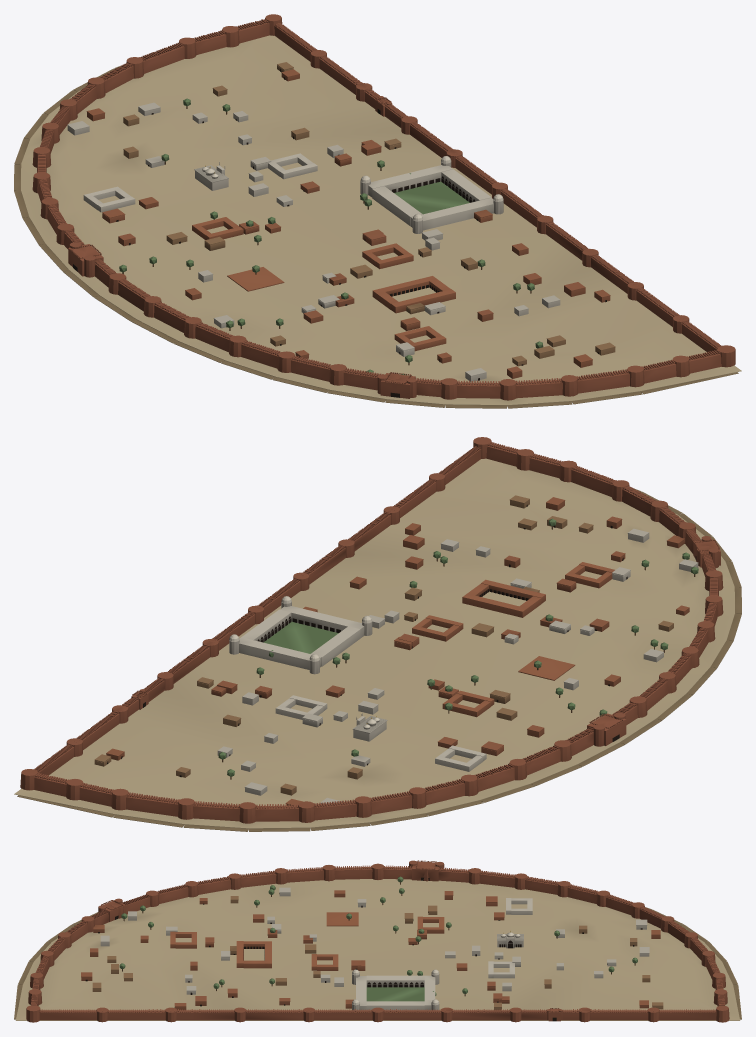
File: badalgarh.glb
The picture shows the model from 3 angles, top to bottom: view 1: azimuth 30°, elevation 25°; view 2: azimuth 150°, elevation 25°; view 3: azimuth 270°, elevation 25°; orthographic projection. The views are drawn at different scales.
Visible parts, largest first — view 1: p0_walls, p2_palace, p1_gates; view 2: p0_walls, p2_palace, p1_gates; view 3: p0_walls, p2_palace, p1_gates.
Part boxes in pixels (x1,y1,x2,y2): p0_walls: (14, 14, 741, 408); p2_palace: (67, 62, 615, 381); p1_gates: (68, 96, 416, 398); p0_walls: (14, 437, 741, 831); p2_palace: (94, 495, 698, 805); p1_gates: (131, 536, 720, 746); p0_walls: (14, 863, 741, 1022); p2_palace: (81, 876, 663, 1010); p1_gates: (98, 860, 562, 1021).
Size of the model in its own units: 412 by 17.41 by 824.
